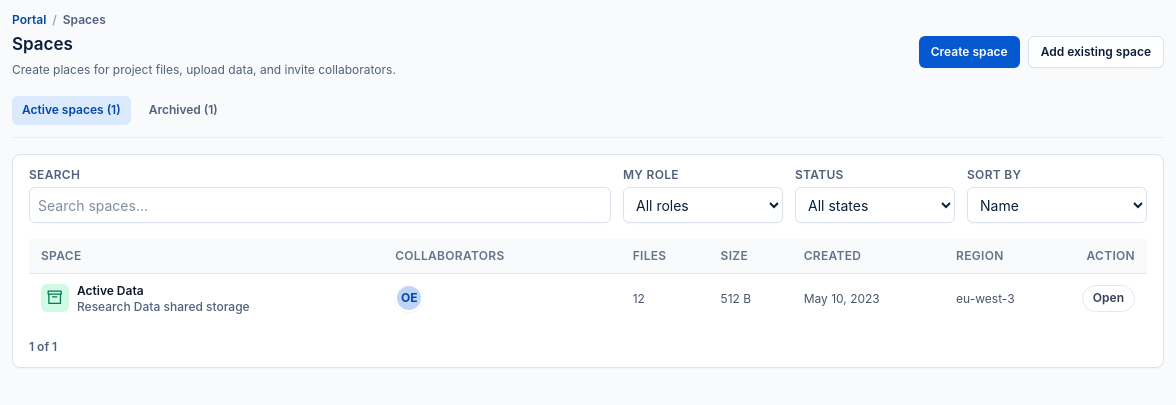
Test case: PortalStorageSpacesPage › keeps archived spaces in a separate tab
Expected: the text "Active Data" is shown, [77,283,144,298]
Expected: the text "Archived Data" is not shown
Click the tab "Archived (1)": [183, 110] box [139,96,228,124]
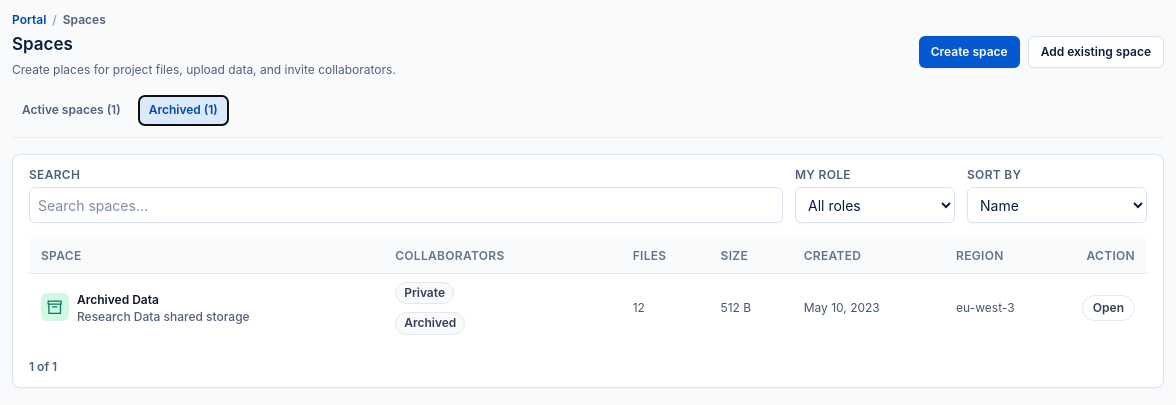
Expected: the text "Active Data" is gone
Expected: the text "Archived Data" is shown, [77,292,159,307]
Expected: the text "Private" is shown, [395,282,454,304]
